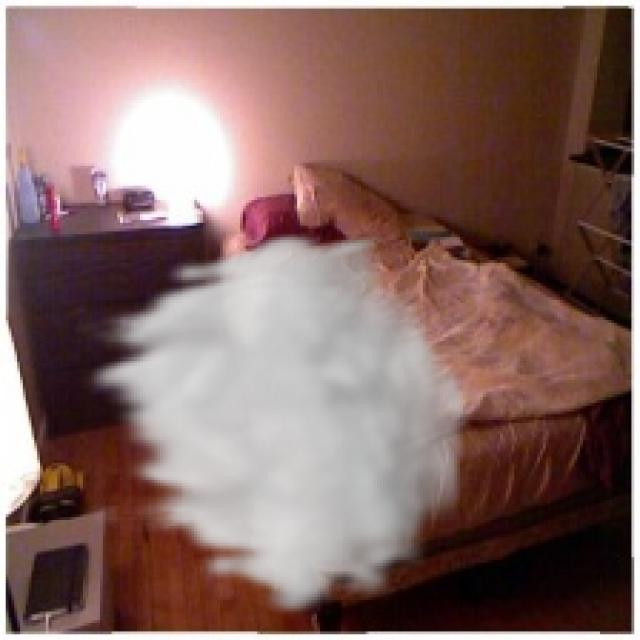smoke: (74, 229, 477, 620)
